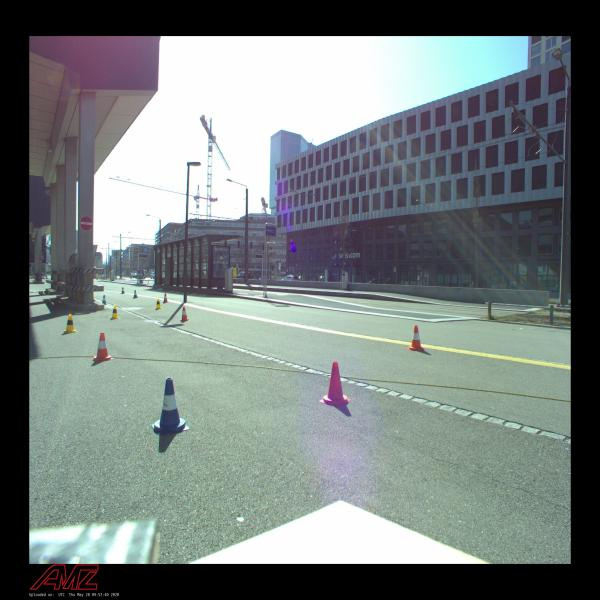blue_cone: (151, 378, 189, 435), (102, 294, 107, 304), (133, 290, 138, 298), (121, 287, 125, 294)
orange_cone: (319, 362, 351, 406), (91, 332, 114, 362), (406, 326, 426, 352), (180, 307, 189, 321), (163, 293, 169, 303)
yellow_cone: (62, 314, 78, 333), (109, 305, 121, 319), (155, 298, 162, 309)
